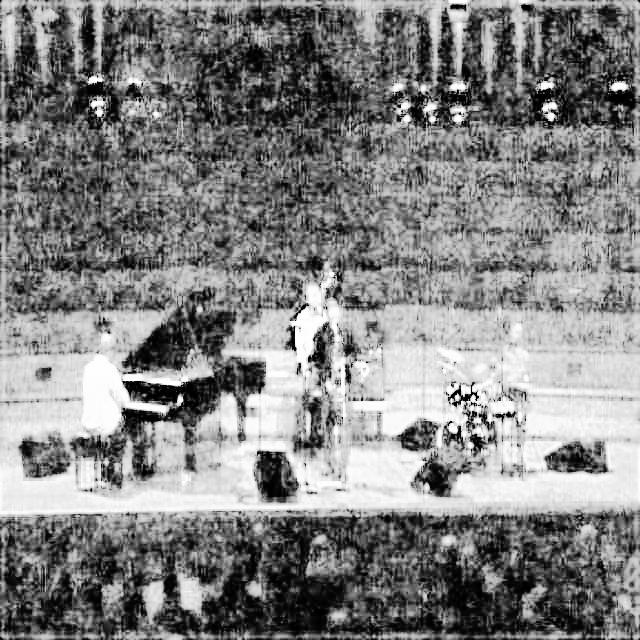Person: (310, 294, 359, 488), (79, 323, 130, 446), (294, 277, 330, 382)
